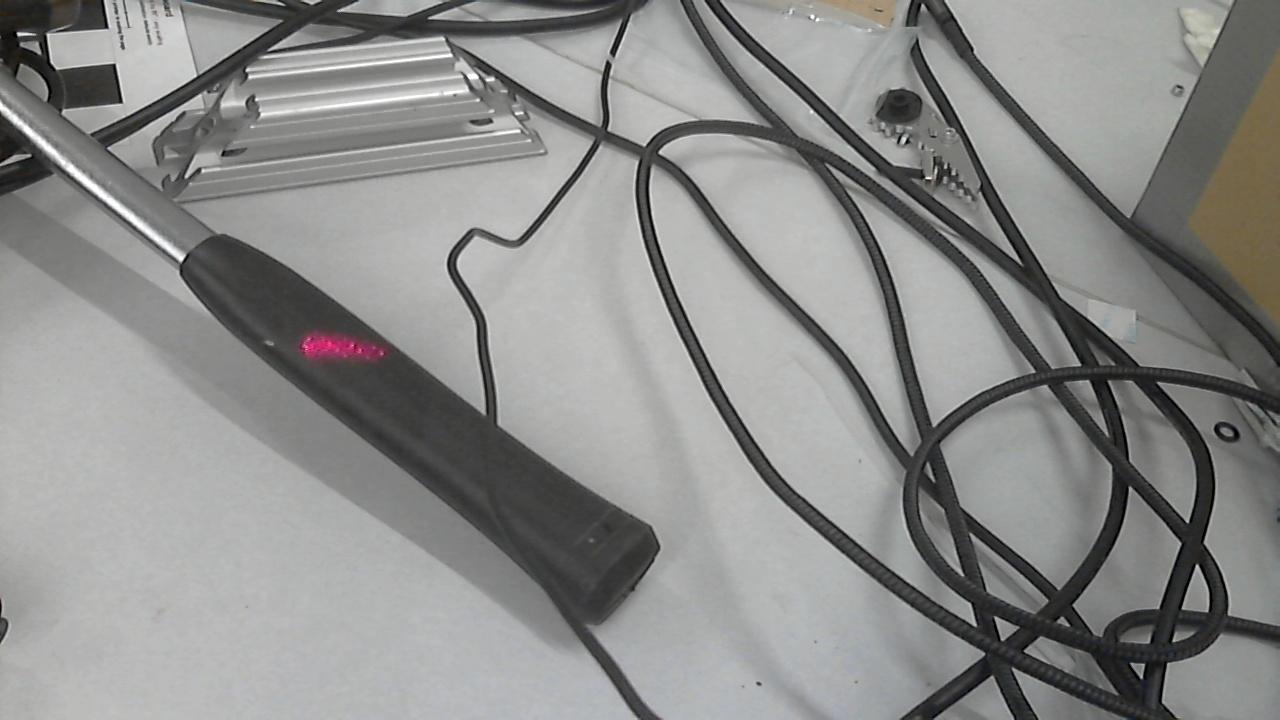Object claw hammer -Material rubber - Pdfname 2LKzx9zgCNVB: (284, 332, 407, 374)
